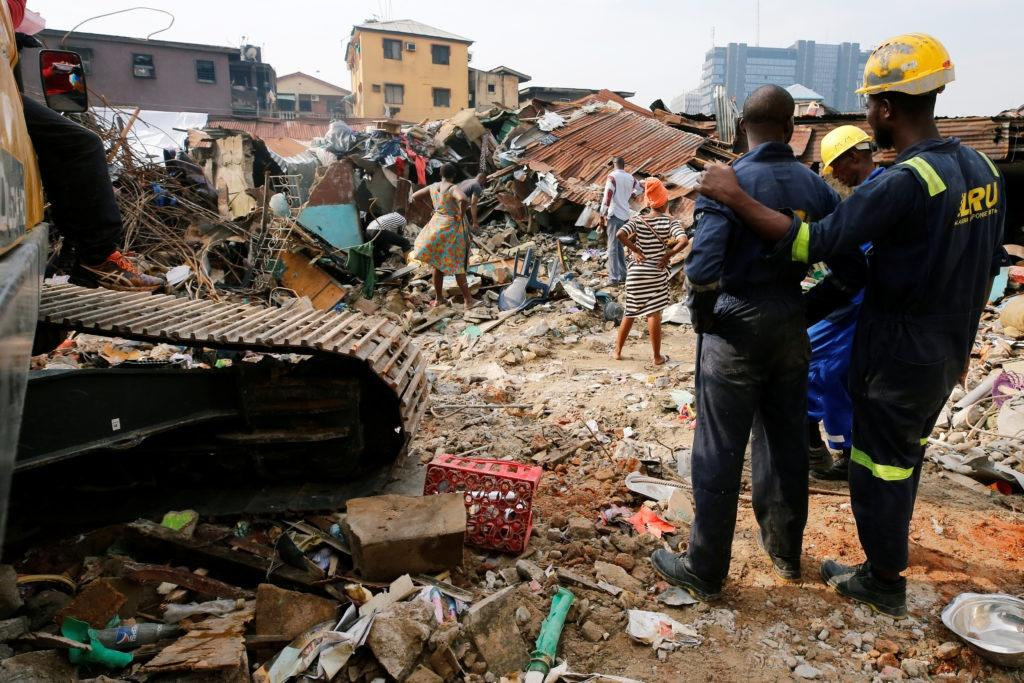victim: (816, 27, 1012, 614), (651, 81, 858, 602), (608, 174, 693, 360), (404, 158, 482, 319), (596, 148, 640, 286)
